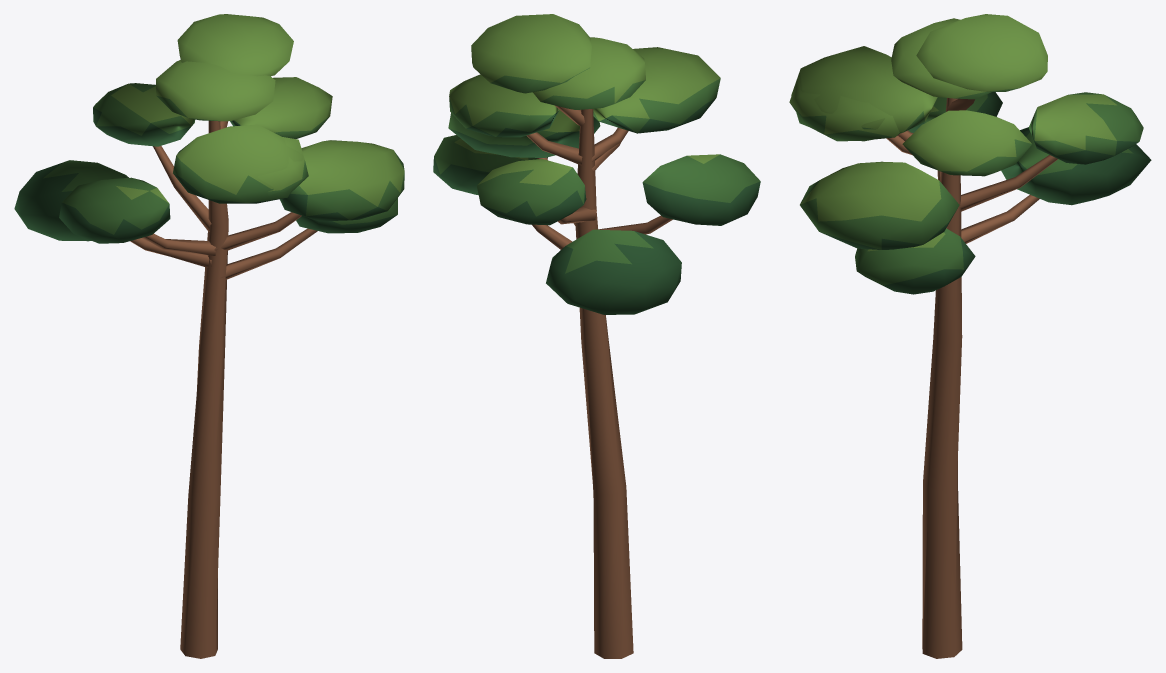
File: PineA_LOD.glb
3 renders of one model, left to right at view 1: azimuth 30°, elevation 25°; view 2: azimuth 150°, elevation 25°; view 3: azimuth 270°, elevation 25°, orthographic. The views are drawn at different scales.
Visible parts, largest first — view 1: PineA_LOD.needleLight, PineA_LOD.bark, PineA_LOD.needleMid, PineA_LOD.needleDark; view 2: PineA_LOD.needleLight, PineA_LOD.needleMid, PineA_LOD.bark, PineA_LOD.needleDark; view 3: PineA_LOD.needleLight, PineA_LOD.bark, PineA_LOD.needleMid, PineA_LOD.needleDark.
Boxes of the visible parts, x1=… form: PineA_LOD.needleLight: x1=111, y1=14, x2=404, y2=206; PineA_LOD.bark: x1=130, y1=120, x2=317, y2=658; PineA_LOD.needleMid: x1=43, y1=83, x2=404, y2=234; PineA_LOD.needleDark: x1=14, y1=107, x2=396, y2=243; PineA_LOD.needleLight: x1=449, y1=14, x2=720, y2=185; PineA_LOD.needleMid: x1=434, y1=67, x2=760, y2=273; PineA_LOD.bark: x1=526, y1=105, x2=672, y2=658; PineA_LOD.needleDark: x1=433, y1=98, x2=760, y2=314; PineA_LOD.needleLight: x1=789, y1=14, x2=1116, y2=251; PineA_LOD.bark: x1=886, y1=98, x2=1057, y2=658; PineA_LOD.needleMid: x1=791, y1=88, x2=1143, y2=285; PineA_LOD.needleDark: x1=820, y1=92, x2=1151, y2=294.
Bounding box in the file's own units: 18.09 × 34 × 17.14.
